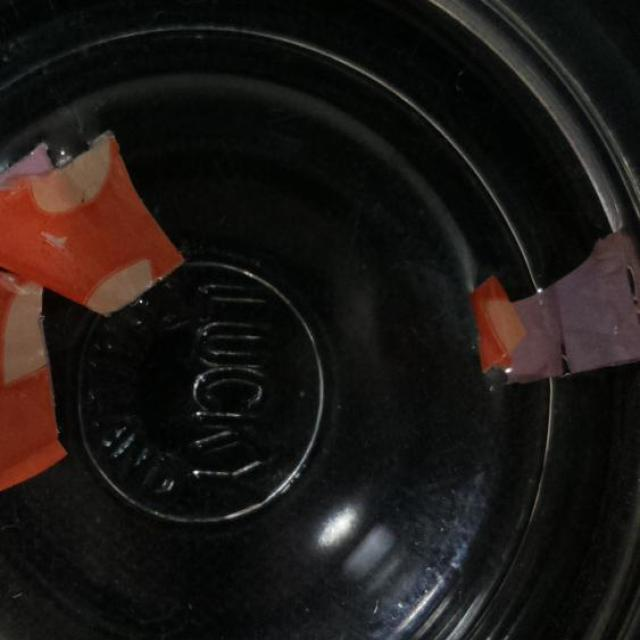fiber: (0, 134, 196, 317), (460, 219, 639, 380), (0, 262, 61, 500)
